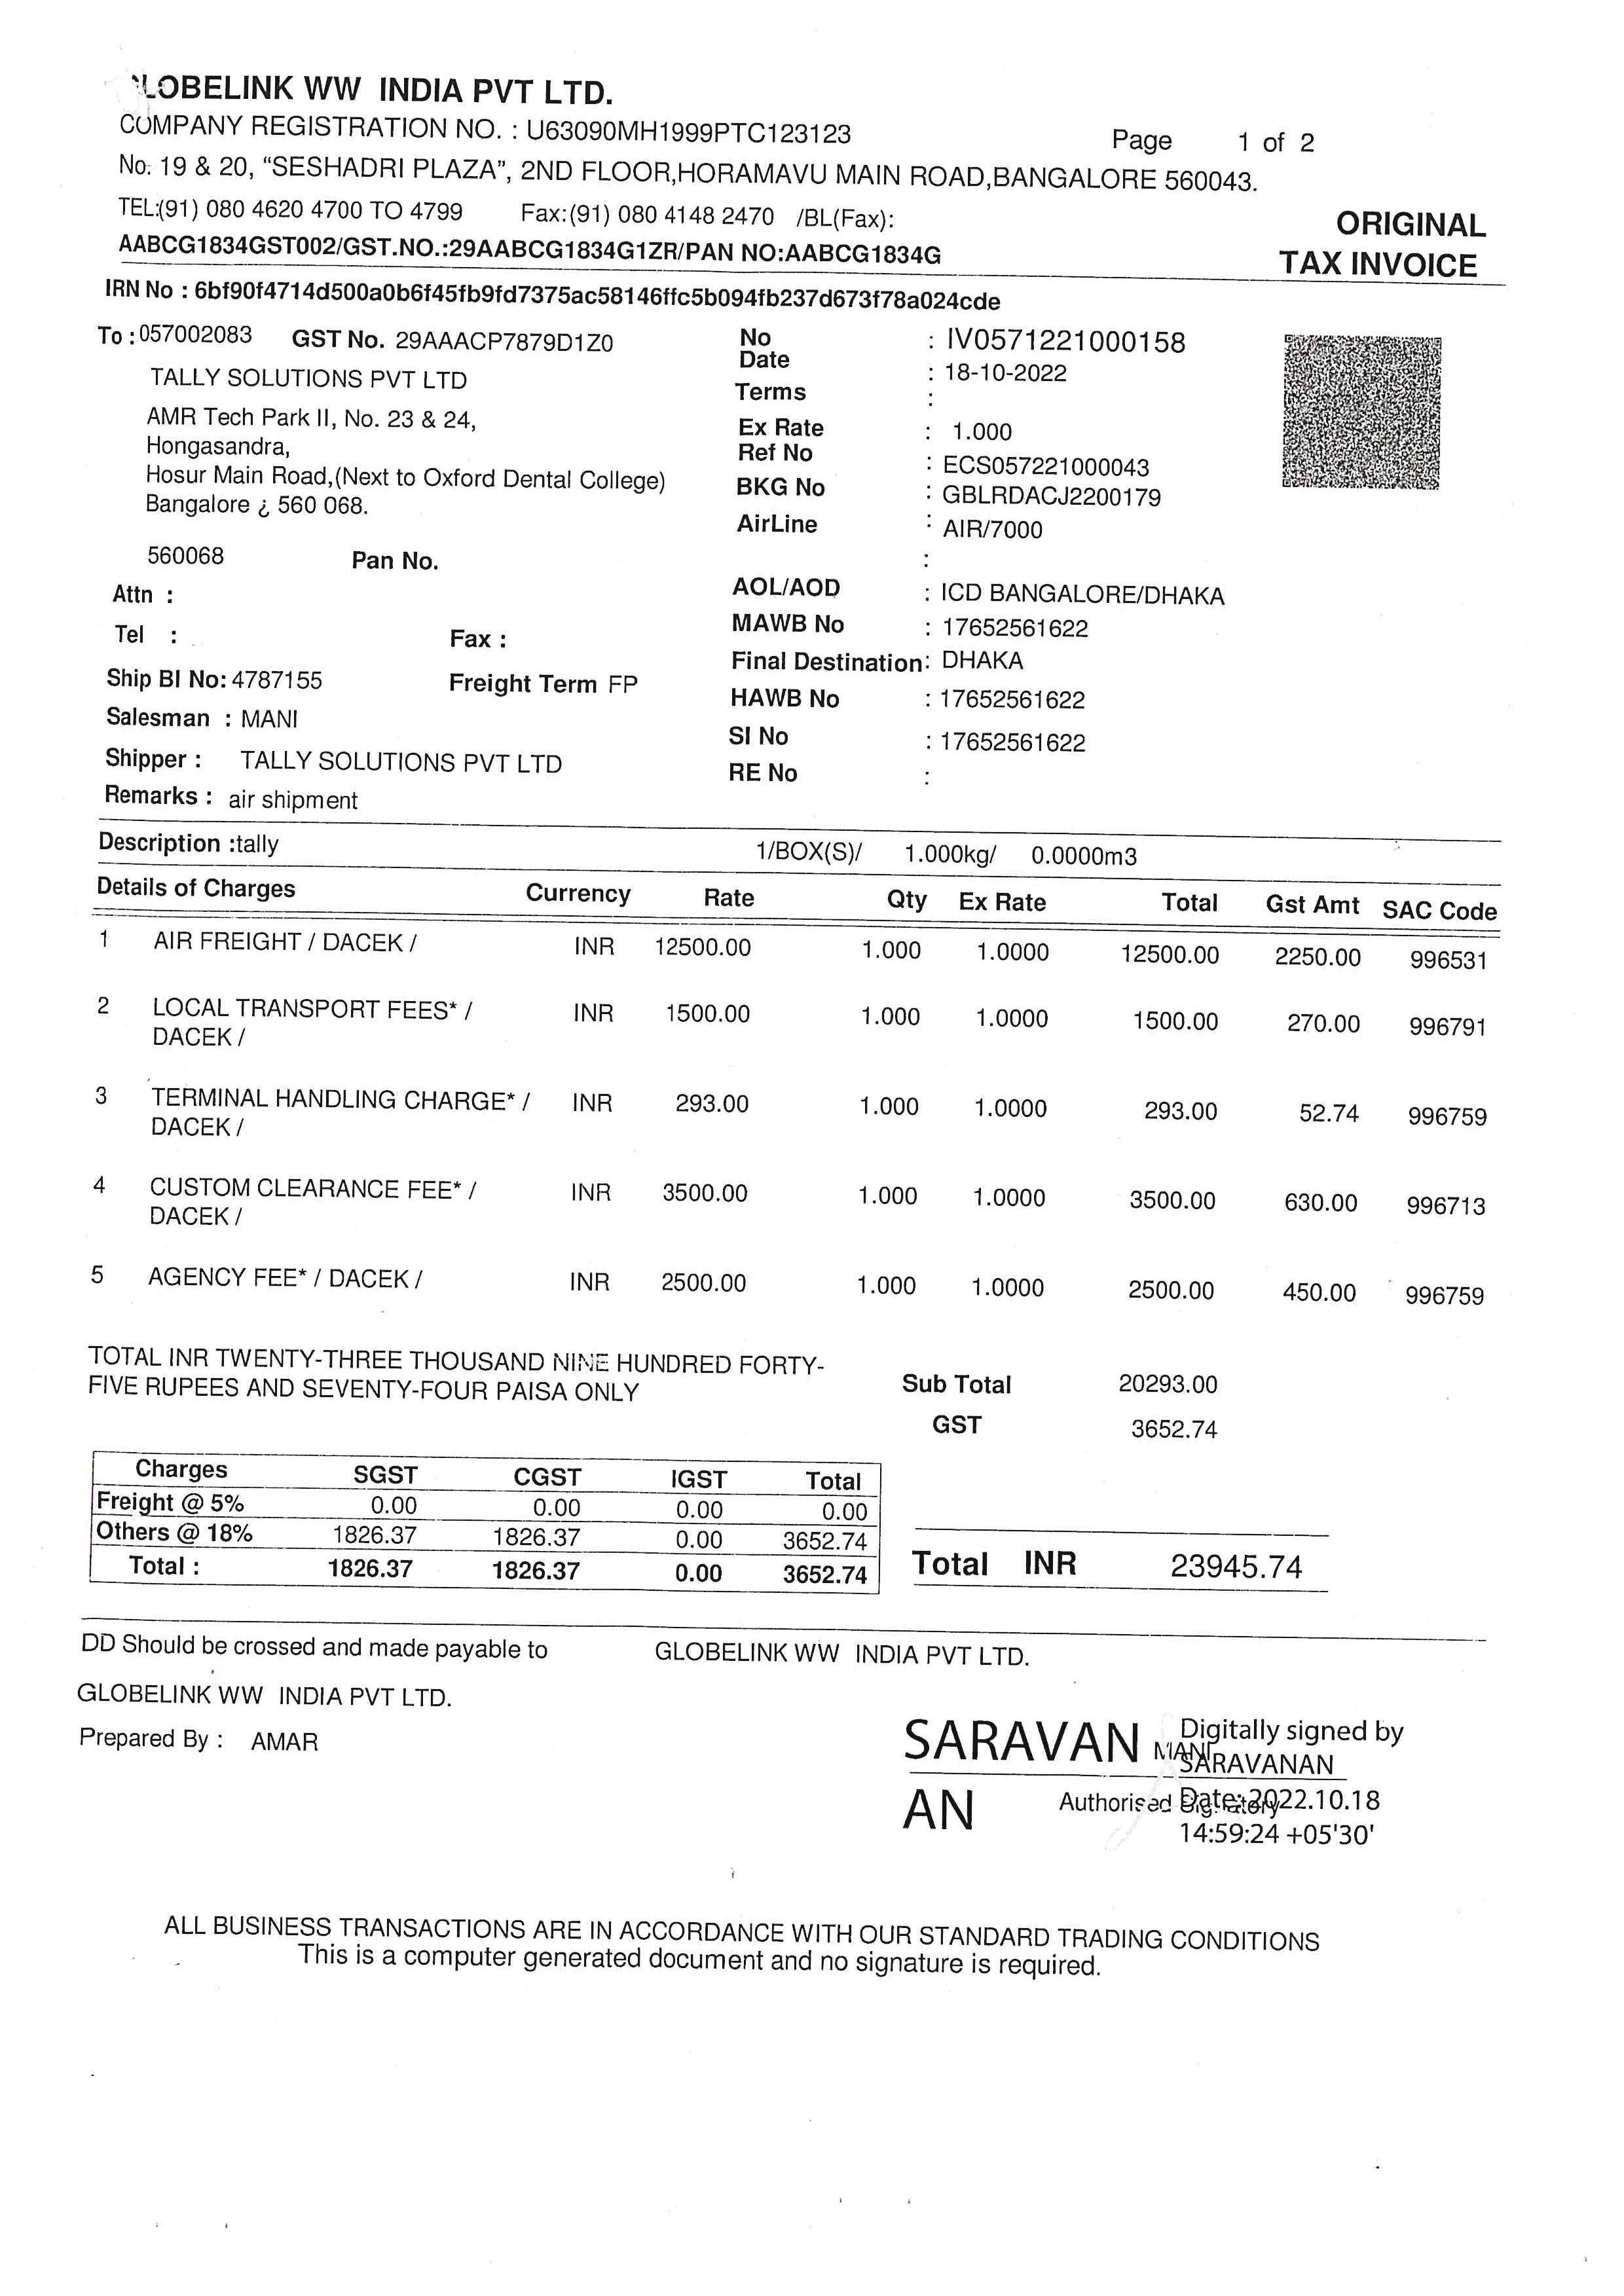InvoiceDate: (942, 360, 1072, 386)
InvoiceNumber: (940, 320, 1195, 360)
TotalAmount: (1167, 1541, 1309, 1586)
